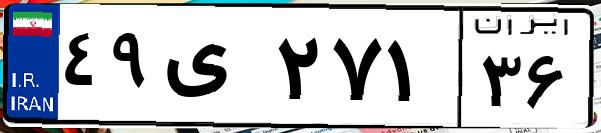1: (385, 28, 445, 110)
2: (270, 28, 330, 110)
3: (475, 38, 525, 113)
4: (57, 26, 110, 100)
6: (525, 38, 570, 115)
7: (330, 28, 385, 110)
9: (110, 28, 158, 98)
ی: (158, 20, 270, 120)
